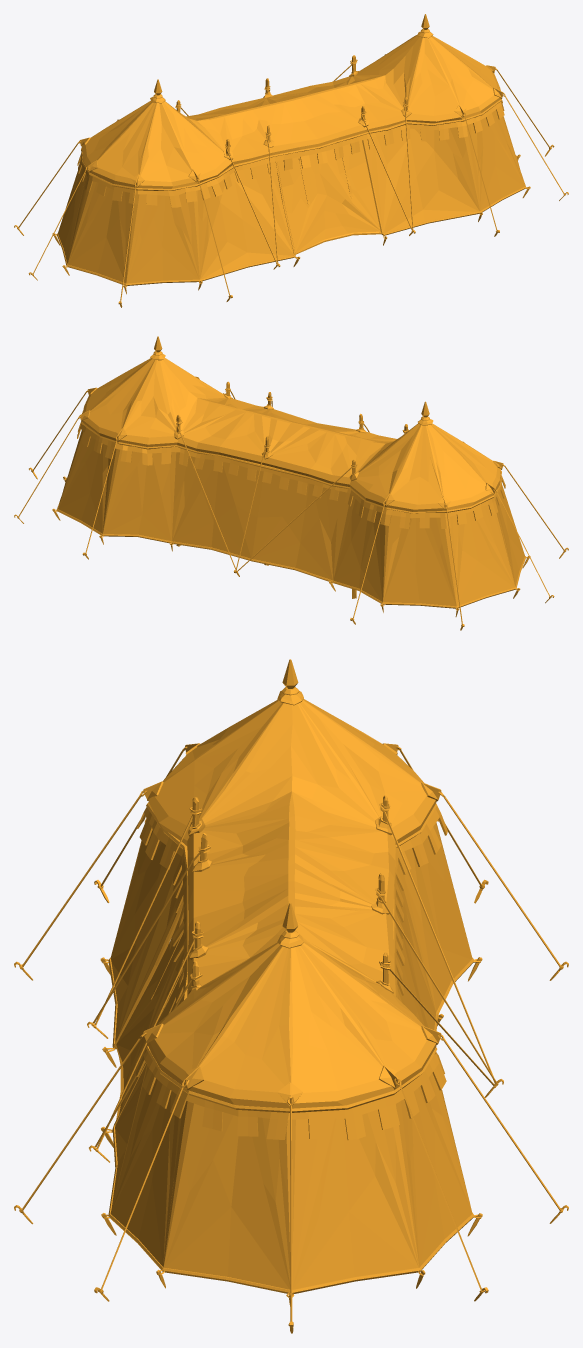
File: SM_Tent_Noble_Plain_Closed_Fantasy.fbx
3 views of the same model, one above another, from view 1: azimuth 30°, elevation 25°; view 2: azimuth 150°, elevation 25°; view 3: azimuth 270°, elevation 25° (orthographic). The views are drawn at different scales.
Parts seen in each view (by area): view 1: tent-noble-plain-closed-fantasy; view 2: tent-noble-plain-closed-fantasy; view 3: tent-noble-plain-closed-fantasy.
Boxes of the visible parts, x1,y1,x2,y2 form: tent-noble-plain-closed-fantasy: (14, 14, 568, 307); tent-noble-plain-closed-fantasy: (14, 336, 568, 630); tent-noble-plain-closed-fantasy: (14, 659, 568, 1333).
Bounding box in the file's own units: 16.33 × 5.64 × 8.01.
